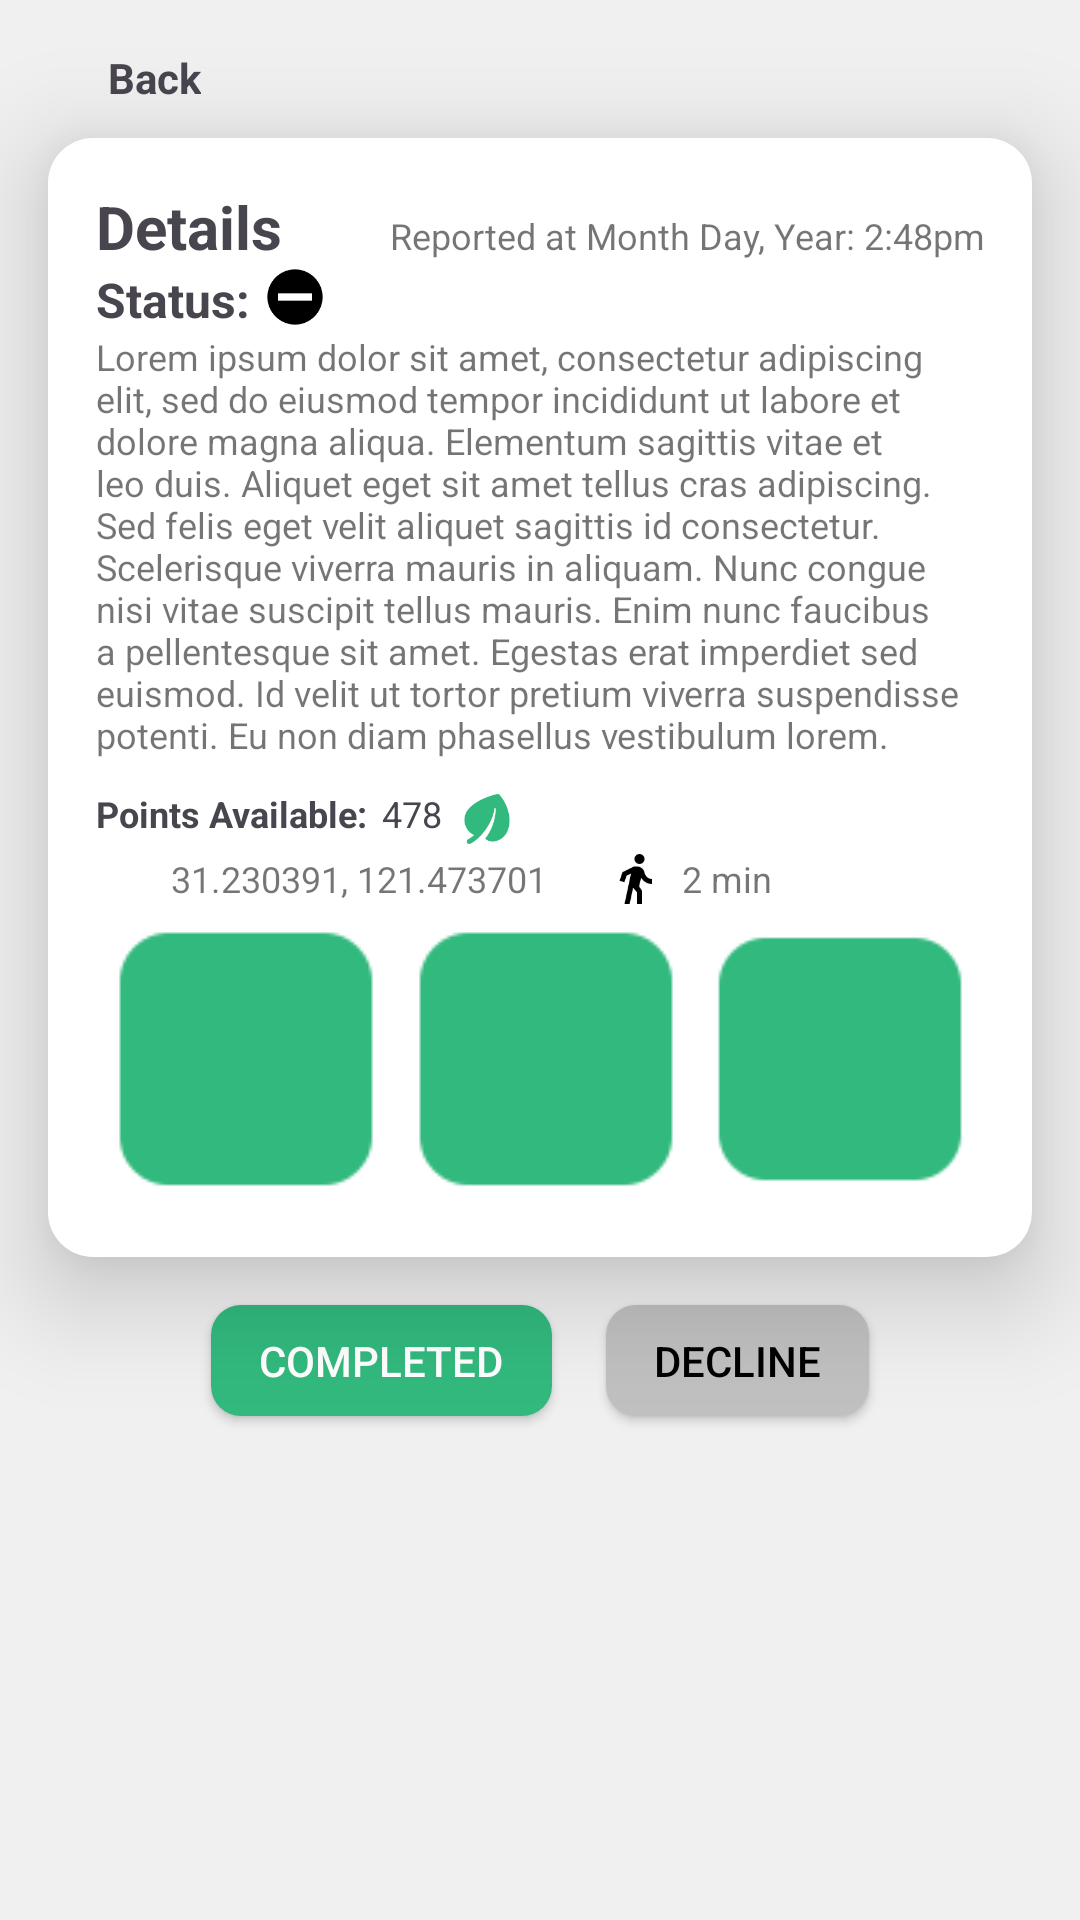

Screen size 1080x1920. Icon name, then its box in pixels as [left=x1, top=y1, right=x2, bottom=y2]:
do not disturb: [left=267, top=269, right=323, bottom=325]
leaf: [left=464, top=794, right=510, bottom=844]
walking: [left=619, top=854, right=652, bottom=904]
